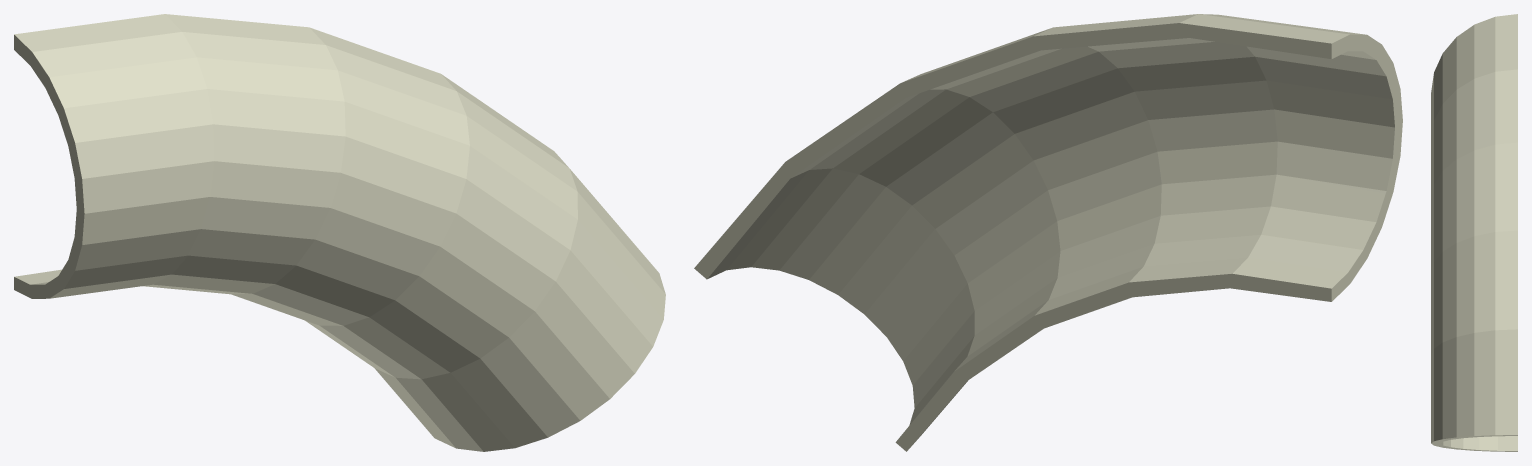
Rendered from section_204.obj.
3 views of the same model, side by side, from view 1: azimuth 30°, elevation 25°; view 2: azimuth 150°, elevation 25°; view 3: azimuth 270°, elevation 25° (orthographic). The views are drawn at different scales.
Size of the model in its own units: 46.47 by 35.66 by 9.
